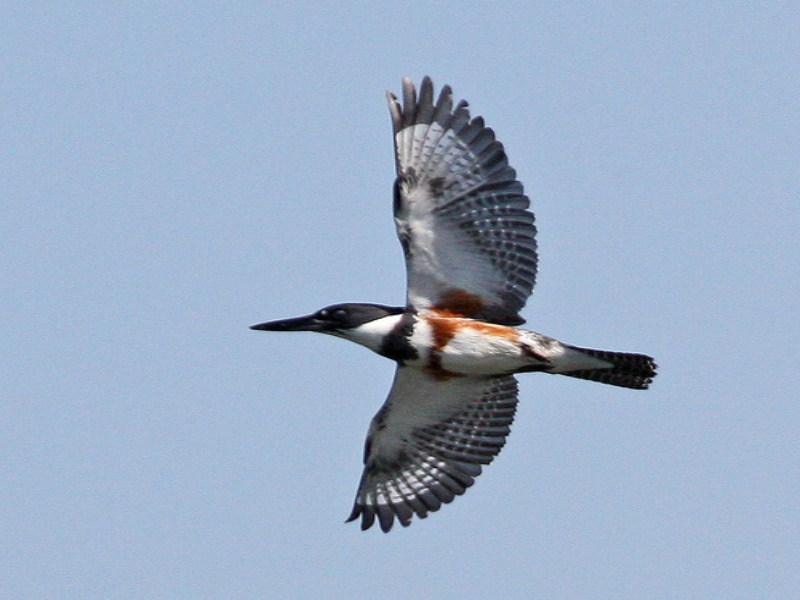kingfisher: (244, 70, 665, 538)
